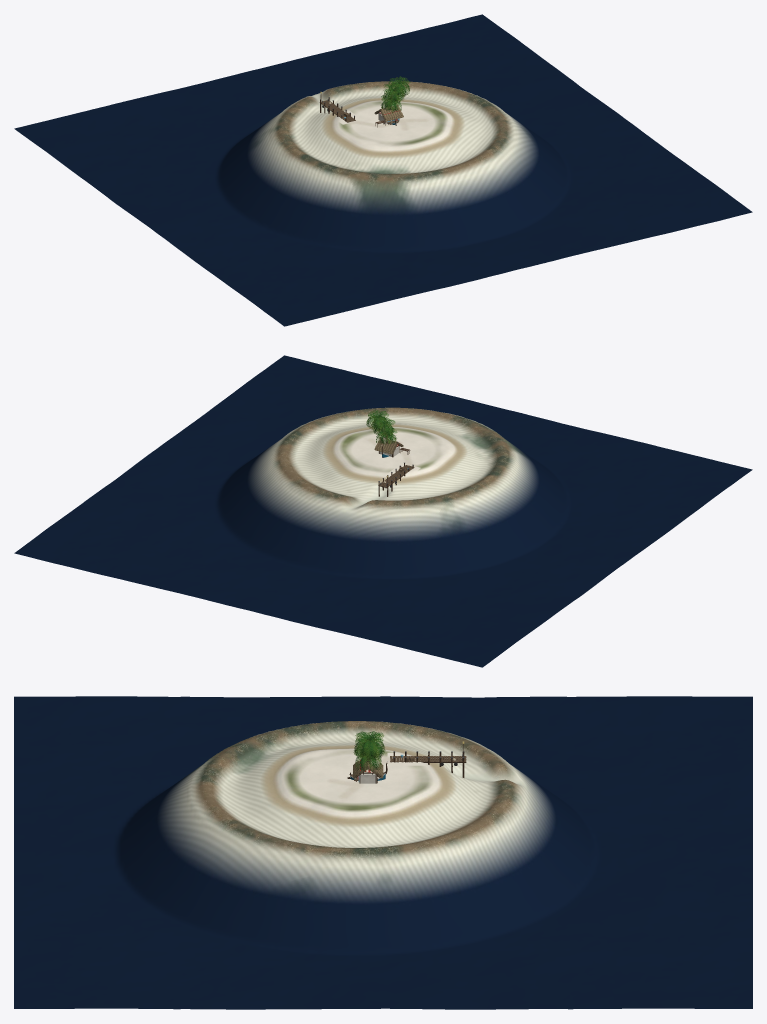
File: island.glb
The picture shows the model from 3 angles, top to bottom: view 1: azimuth 30°, elevation 25°; view 2: azimuth 150°, elevation 25°; view 3: azimuth 270°, elevation 25°; orthographic projection. The views are drawn at different scales.
Parts seen in each view (by area): view 1: terrain; view 2: terrain; view 3: terrain, jetty, palm_b.
Boxes of the visible parts, x1,y1,x2,y2 form: terrain: [14, 14, 752, 326]; terrain: [14, 355, 752, 667]; terrain: [14, 696, 752, 1009]; jetty: [390, 741, 466, 777]; palm_b: [354, 731, 385, 764].
Size of the model in its own units: 96 by 18.11 by 96.
Materials: 33 (15 with a texture image).
